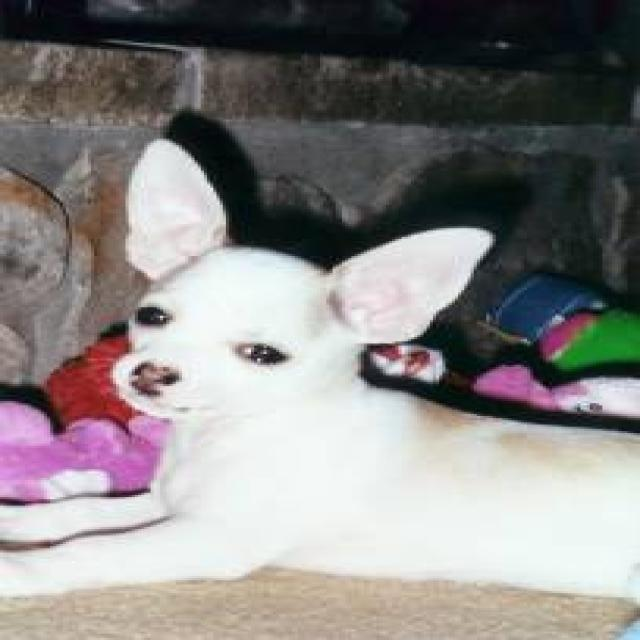dog-chihuahua: (3, 130, 634, 604)
